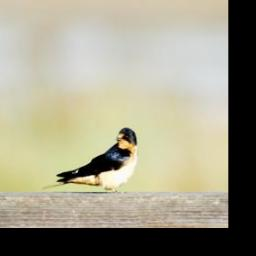Swallow: (41, 126, 138, 196)
